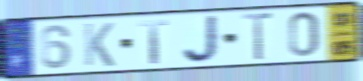0: (286, 10, 322, 60)
6: (39, 23, 74, 71)
J: (181, 14, 223, 65)
K: (82, 21, 116, 68)
T: (240, 11, 276, 63), (137, 18, 171, 65)
